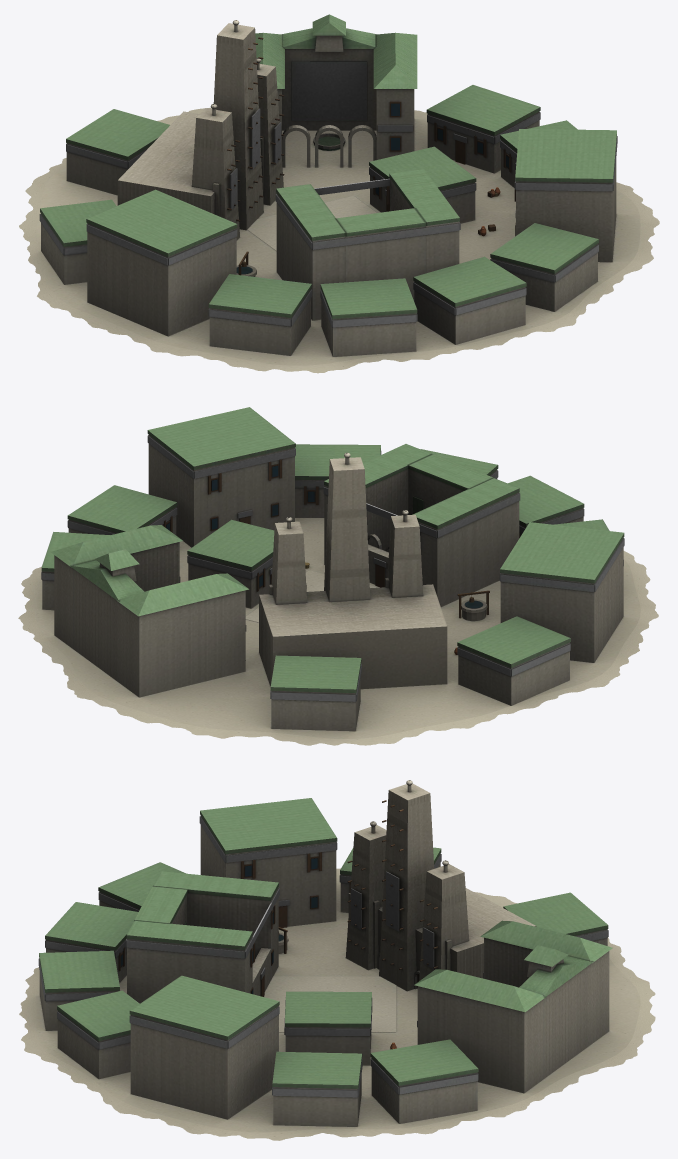
Rendered from gunpowder-town-medium-b-maghreb.glb.
The picture shows the model from 3 angles, top to bottom: view 1: azimuth 30°, elevation 25°; view 2: azimuth 150°, elevation 25°; view 3: azimuth 270°, elevation 25°; orthographic projection.
Parts seen in each view (by area): view 1: LOD0; view 2: LOD0; view 3: LOD0.
Boxes of the visible parts, bbox=[...] form: LOD0: bbox=[19, 14, 659, 373]; LOD0: bbox=[18, 407, 658, 745]; LOD0: bbox=[19, 780, 655, 1140].
Size of what is drawn, in the model's own units: 5.99 by 2.02 by 5.91.
3 materials, 3 textured.
